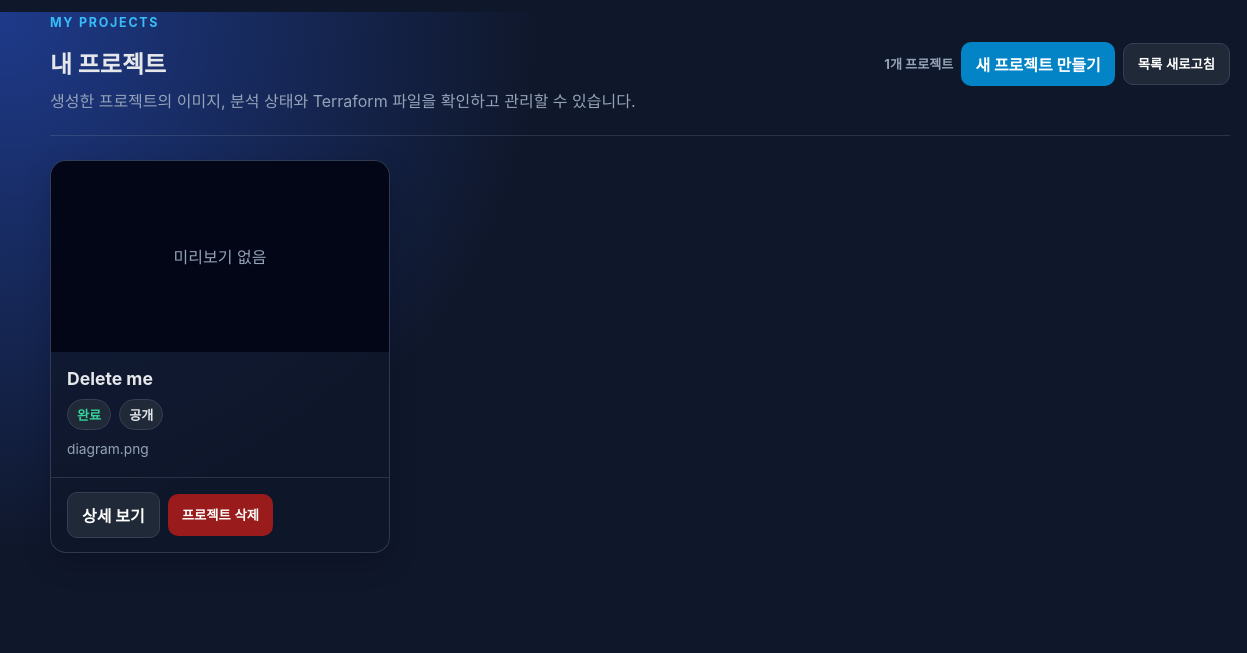
clears a deletion error when a retry succeeds
This screenshot has width=1247, height=653.
Check: the heading "Delete me" is shown, box top-left (67, 368), bottom-right (153, 388)
What coordinates should you click on to do the following:
click the button with aria-label "Delete me 프로젝트 삭제"
I would click on:
 (220, 515)
Its box is top-left (168, 494), bottom-right (273, 536).
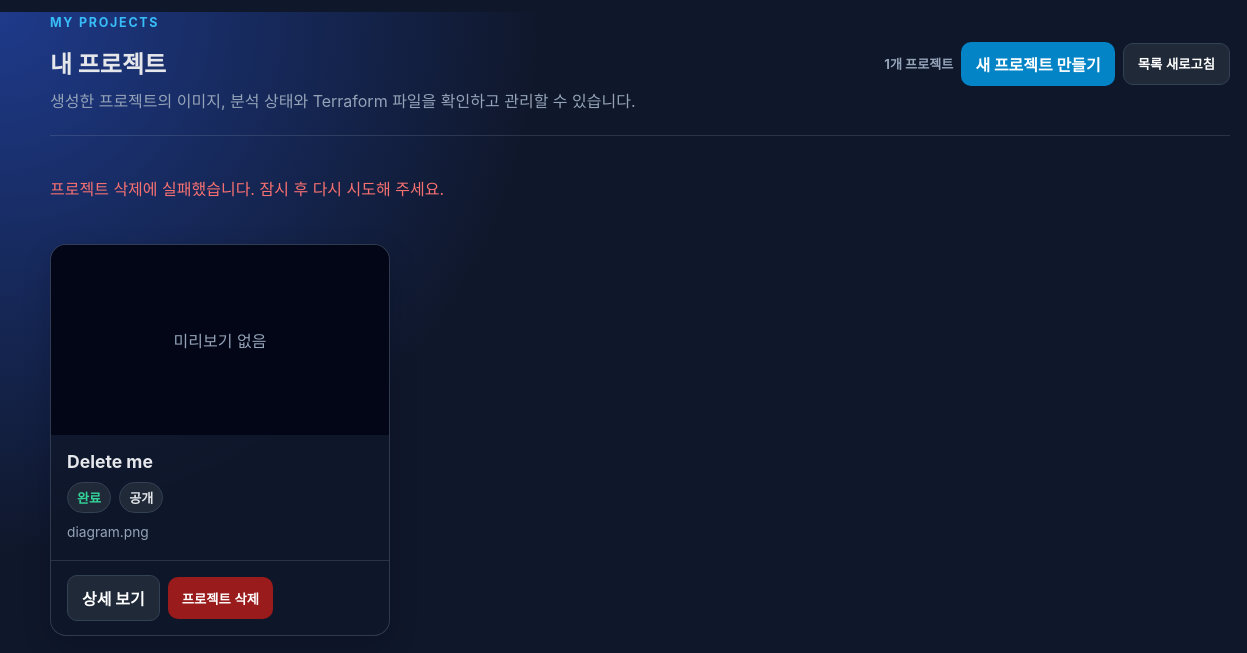
Check: the message "프로젝트 삭제에 실패했습니다. 잠시 후 다시 시도해 주세요." is shown, box top-left (50, 179), bottom-right (444, 199)
What coordinates should you click on to do the following:
click the button with aria-label "Delete me 프로젝트 삭제"
I would click on:
 (220, 598)
Its box is top-left (168, 577), bottom-right (273, 619).
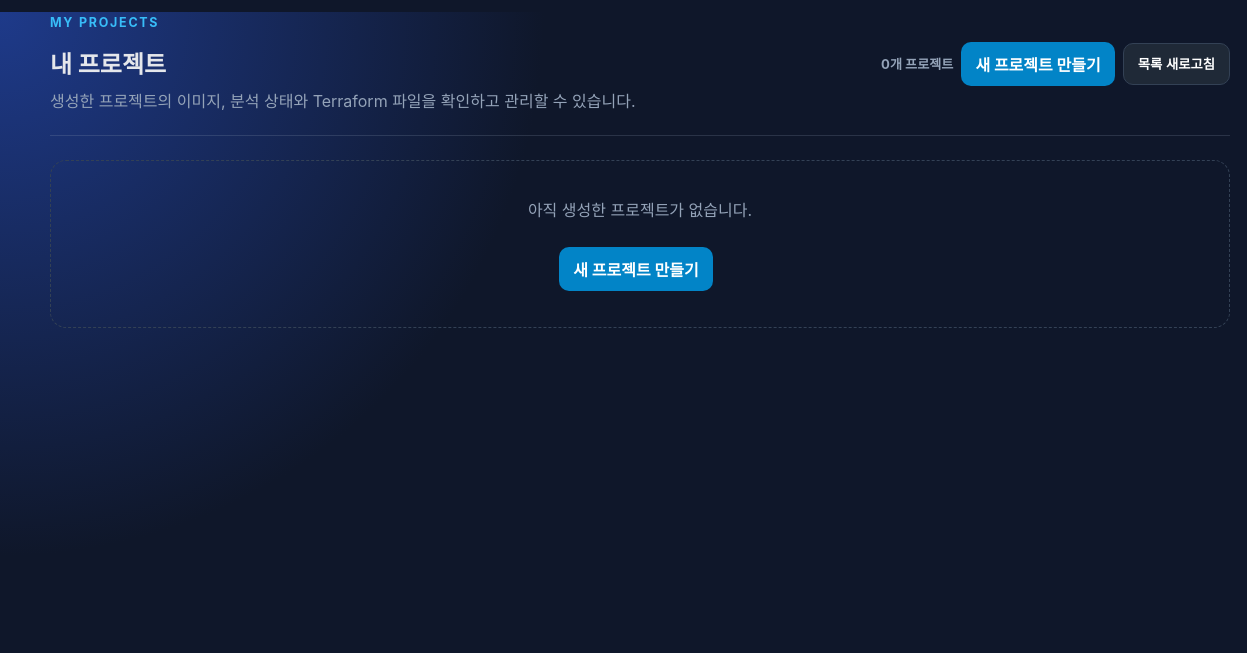
Check: the text "아직 생성한 프로젝트가 없습니다." is shown, box top-left (528, 200), bottom-right (752, 220)
Check: the message "프로젝트 삭제에 실패했습니다. 잠시 후 다시 시도해 주세요." is gone
